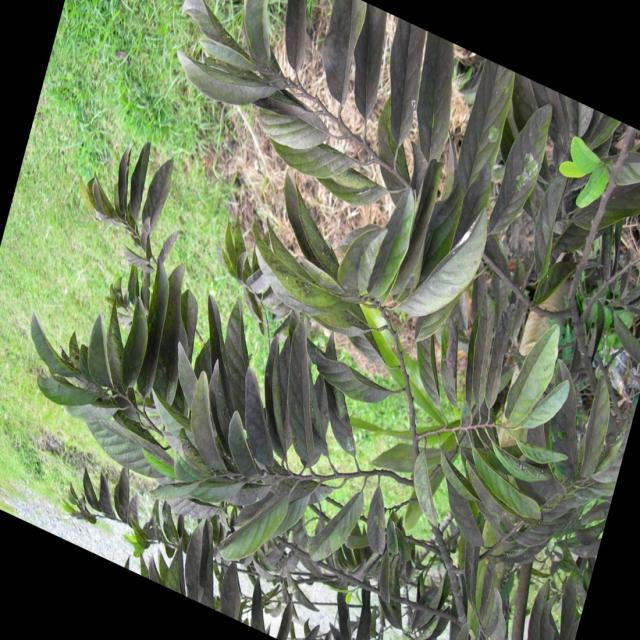Sooty Mold: (28, 1, 638, 638)
